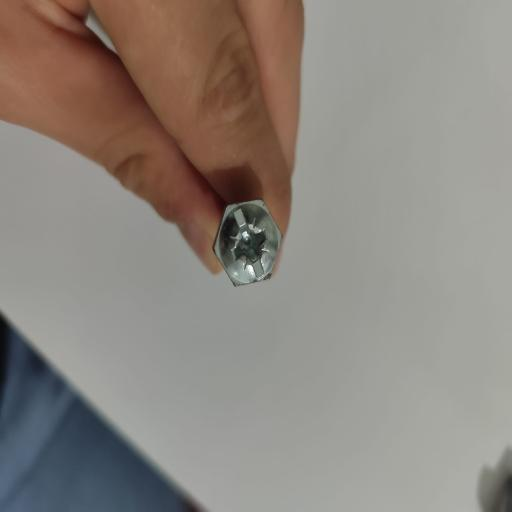Pozidriv: (214, 195, 288, 292)
